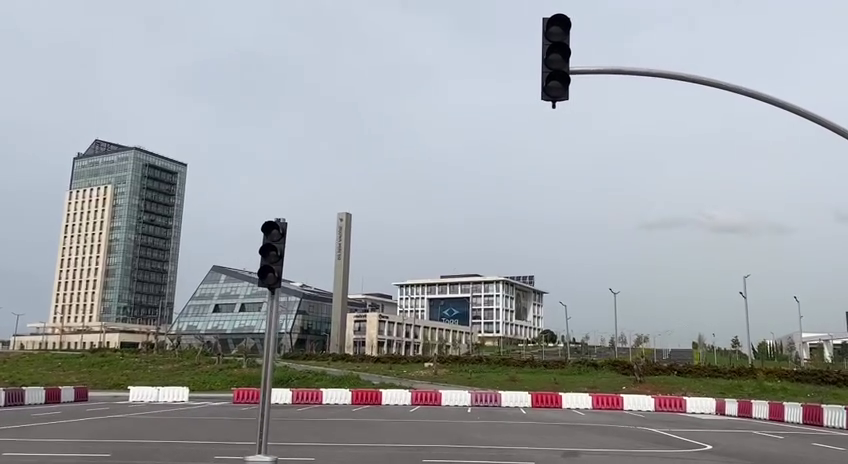trafficLight: (537, 11, 575, 110), (254, 214, 291, 296)
